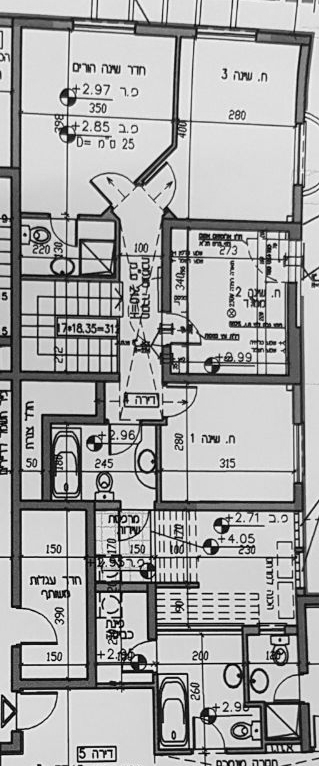door: (133, 159, 183, 218), (83, 165, 140, 213), (157, 307, 206, 352), (157, 379, 206, 424), (103, 424, 152, 469), (115, 633, 164, 678), (12, 685, 61, 730), (260, 674, 309, 719)
window: (74, 14, 159, 46), (187, 18, 272, 50), (288, 118, 313, 205), (287, 406, 312, 493), (287, 511, 312, 598)
